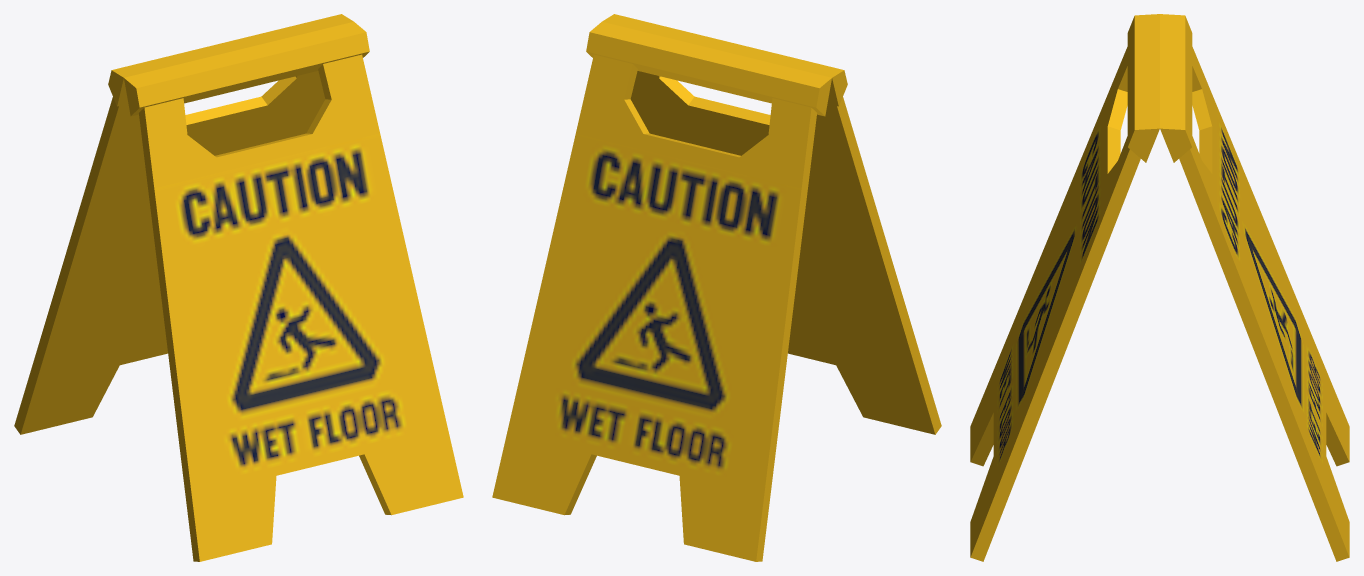
File: Safety Barrier.fbx
The picture shows the model from 3 angles, left to right: view 1: azimuth 30°, elevation 25°; view 2: azimuth 150°, elevation 25°; view 3: azimuth 270°, elevation 25°; orthographic projection. The views are drawn at different scales.
Visible parts, largest first — view 1: Safety_Barrier; view 2: Safety_Barrier; view 3: Safety_Barrier.
Part boxes in pixels (x1=…): Safety_Barrier: x1=14, y1=14, x2=463, y2=561; Safety_Barrier: x1=492, y1=14, x2=941, y2=561; Safety_Barrier: x1=970, y1=14, x2=1349, y2=561.
Bounding box in the file's own units: 53.22 × 80.22 × 64.85.
